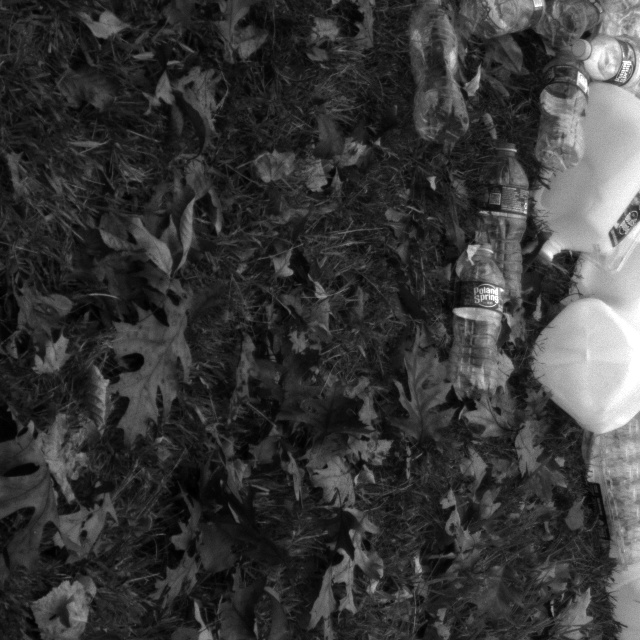bottle: (470, 137, 535, 301), (446, 238, 512, 398), (408, 0, 470, 145), (535, 32, 599, 169)
can: (531, 78, 640, 268), (528, 299, 640, 435)
container: (578, 409, 640, 570)
